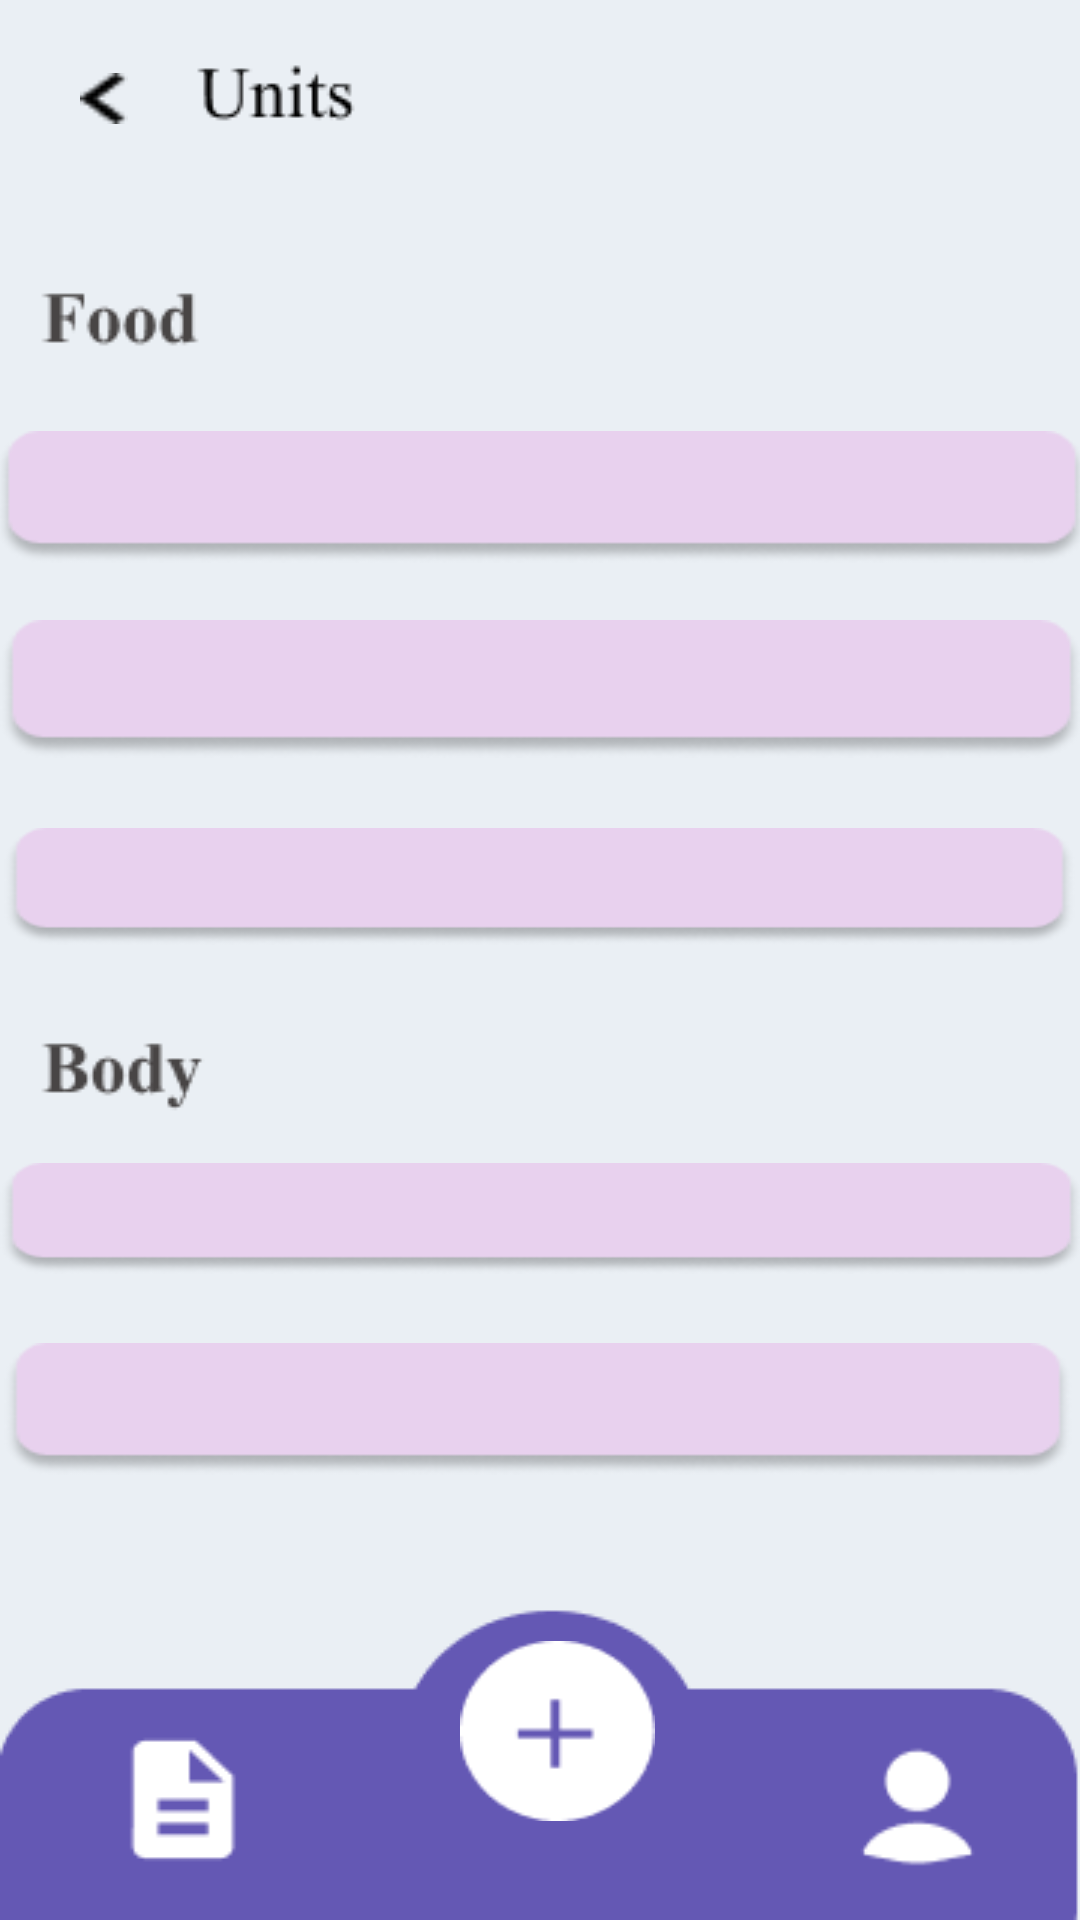

Where icons sit on this 1080w x 1920h app screen, as rect(x1, y1, x2, y2):
description: rect(130, 1740, 235, 1859)
plus: rect(460, 1641, 655, 1821)
user: rect(863, 1749, 972, 1865)
